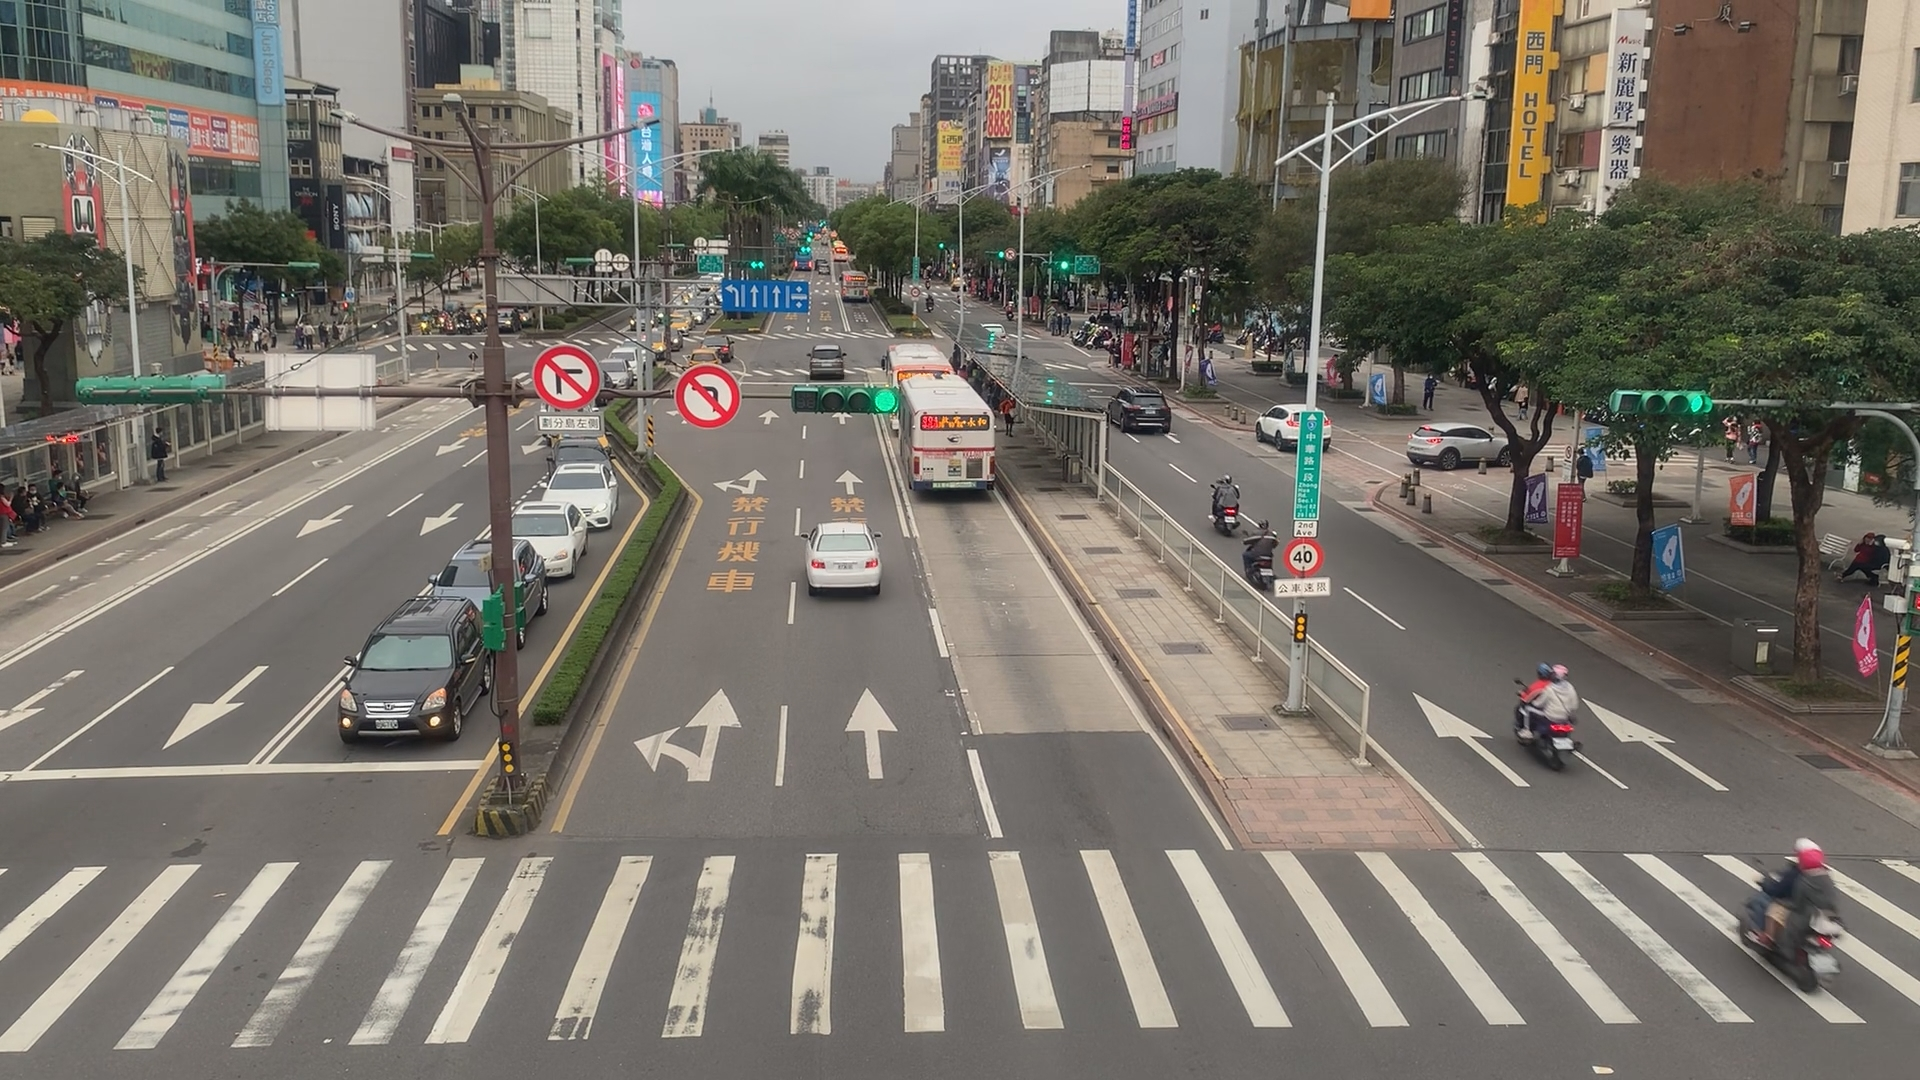Bus: (901, 378, 1005, 493), (878, 330, 945, 411), (833, 268, 874, 309), (793, 247, 818, 274)
Motorcycle: (1741, 822, 1851, 1006), (1516, 647, 1589, 764), (1246, 516, 1295, 600), (1211, 463, 1262, 542)
Private Passenger Car: (334, 592, 495, 741), (438, 541, 550, 657), (796, 512, 885, 600), (1408, 411, 1514, 472), (508, 504, 593, 575), (1253, 397, 1346, 462), (542, 465, 628, 531), (527, 426, 618, 487), (1098, 380, 1172, 448), (576, 352, 636, 392), (808, 342, 853, 381), (982, 319, 1022, 353)
